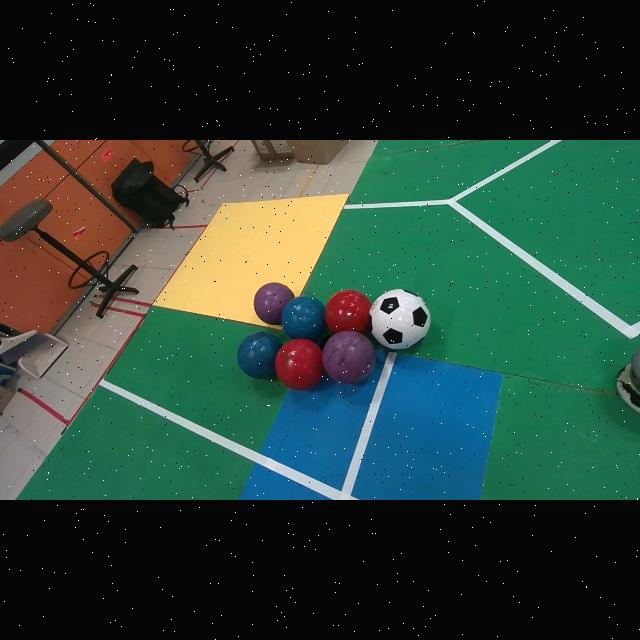B: (237, 332, 282, 379), (283, 297, 326, 342)
P: (322, 331, 376, 384), (254, 282, 295, 325)
R: (276, 340, 325, 389), (325, 289, 372, 334)
